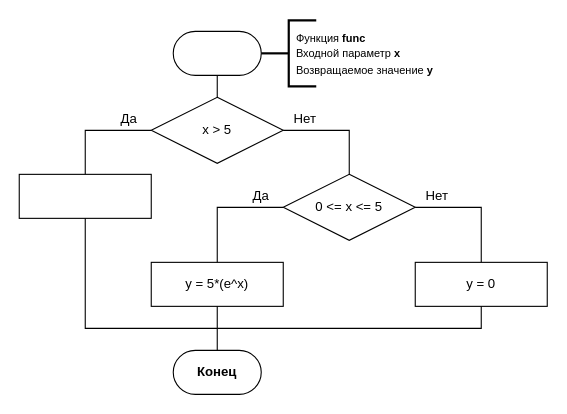
Some shapes in this 567 by 414 pixel diagram are drawn without their labels. The shapes that lost their labels are listed below. From the top down, each one's centre as x and y in pixels, then its label:
pixel 216 52: func
pixel 84 195: y = 2*sin(x)
